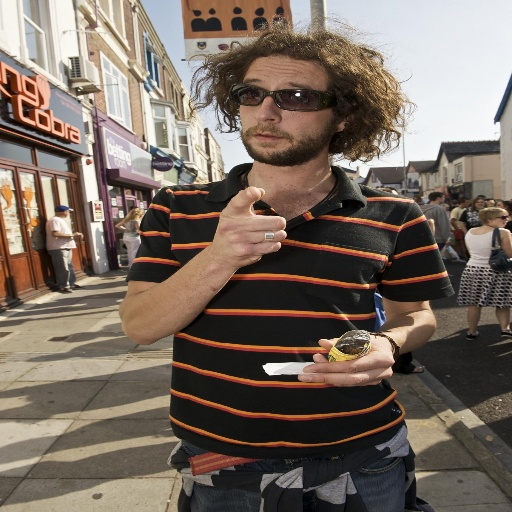hand: (203, 188, 299, 272), (291, 332, 397, 389)
